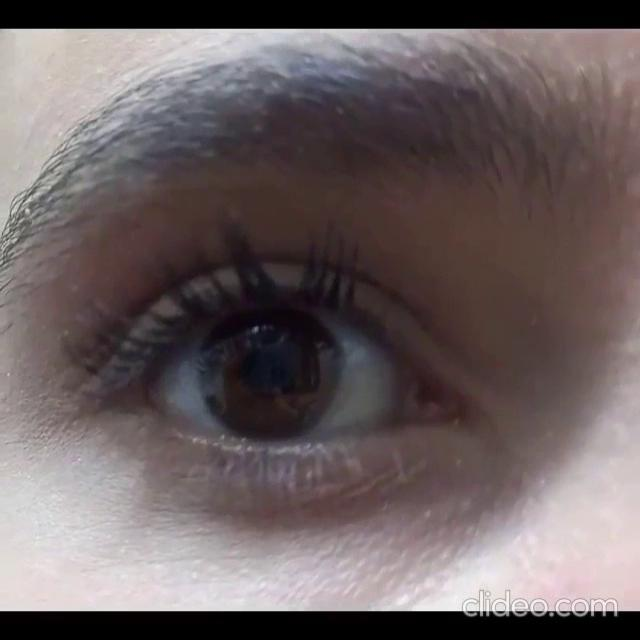iris: (199, 310, 342, 437), (199, 310, 341, 437)
pupille: (237, 344, 299, 398)
